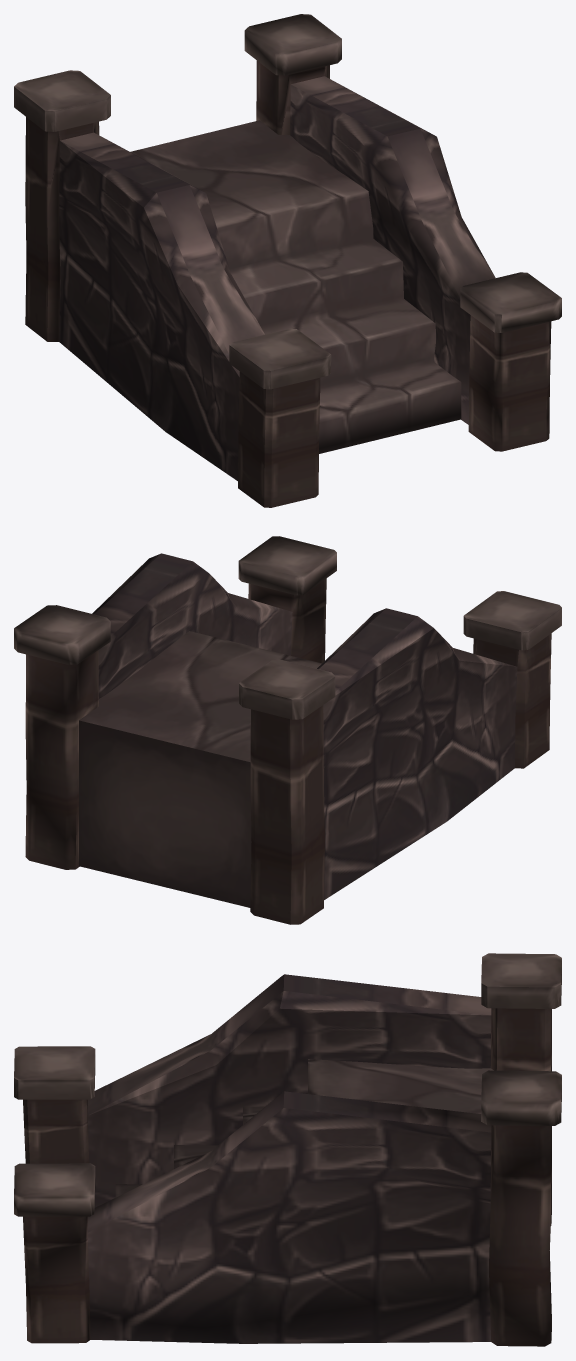
The model's file is rock_08.fbx.
3 views of the same model, one above another, from view 1: azimuth 30°, elevation 25°; view 2: azimuth 150°, elevation 25°; view 3: azimuth 270°, elevation 25° (orthographic). The views are drawn at different scales.
Parts seen in each view (by area): view 1: rock_08; view 2: rock_08; view 3: rock_08.
Boxes of the visible parts, x1,y1,x2,y2 form: rock_08: (14,14,561,507); rock_08: (14,536,561,924); rock_08: (14,953,561,1346).
Bounding box in the file's own units: 2.6 × 1.93 × 3.9.
